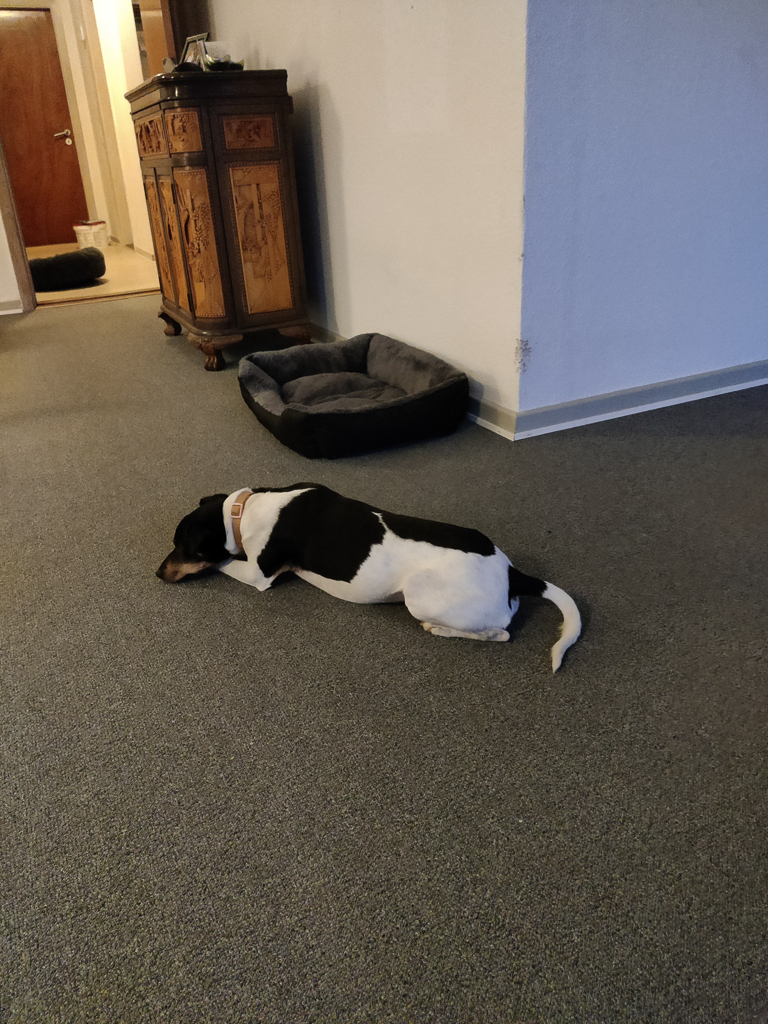Dog: (139, 469, 598, 690)
